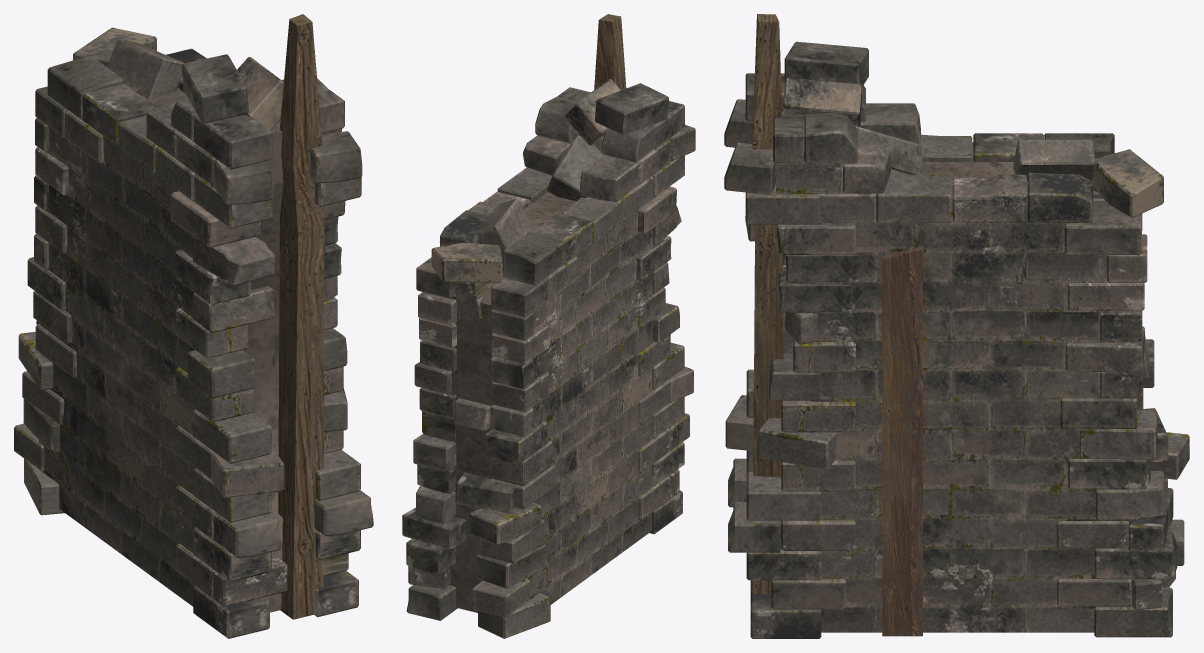
The model's file is SM_Asy_RuinsWall_1mWall.fbx.
3 renders of one model, left to right at view 1: azimuth 30°, elevation 25°; view 2: azimuth 150°, elevation 25°; view 3: azimuth 270°, elevation 25°, orthographic. The views are drawn at different scales.
Visible parts, largest first — view 1: SM_Asy_RuinsWall_1mWall.mo; view 2: SM_Asy_RuinsWall_1mWall.mo; view 3: SM_Asy_RuinsWall_1mWall.mo.
Part boxes in pixels (x1,y1,x2,y2): SM_Asy_RuinsWall_1mWall.mo: (14, 14, 373, 638); SM_Asy_RuinsWall_1mWall.mo: (402, 14, 695, 638); SM_Asy_RuinsWall_1mWall.mo: (724, 14, 1189, 638).
Size of the model in its own units: 60.23 by 211 by 149.
